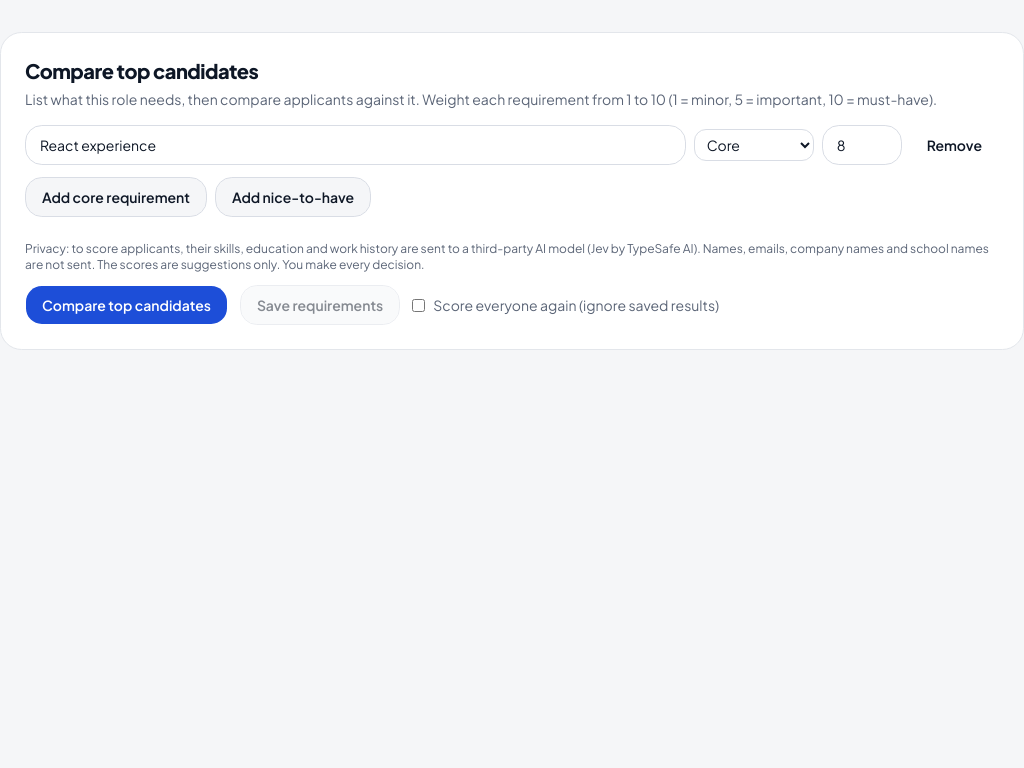
Scenario: CandidateComparison › saves unsaved changes before comparing
Step 1. Type "!" into the field named "Requirement 1" → (355, 145), box [25, 125, 686, 165]
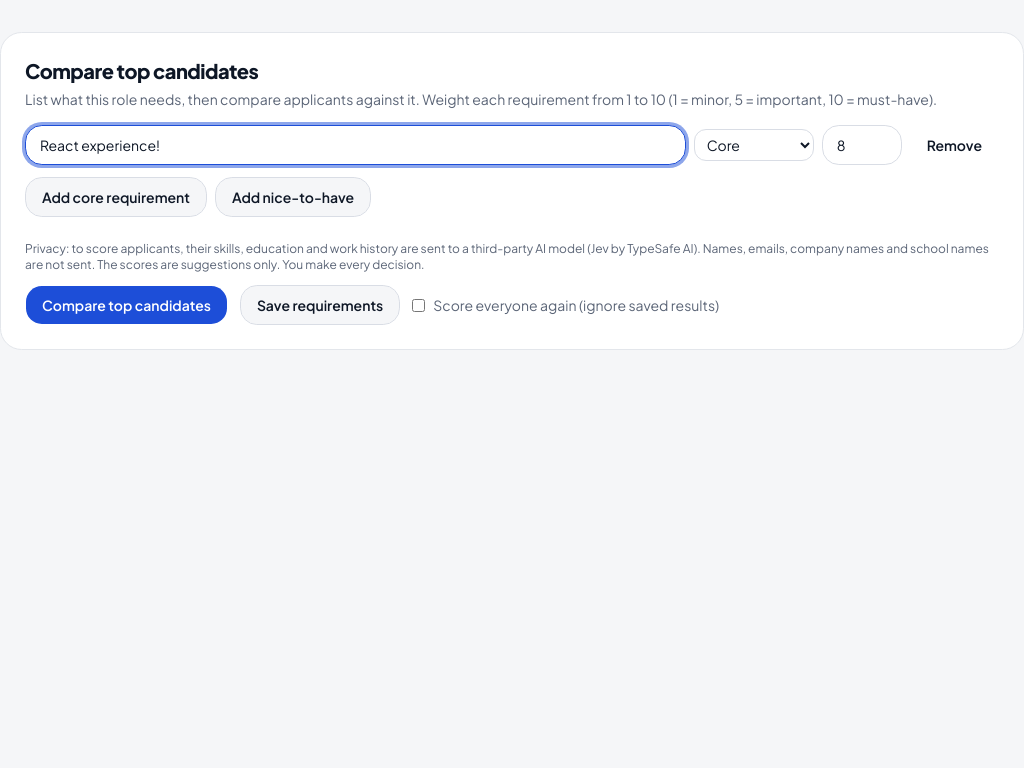
Step 2. Click the button "Compare top candidates" → (126, 305), box [25, 285, 228, 325]
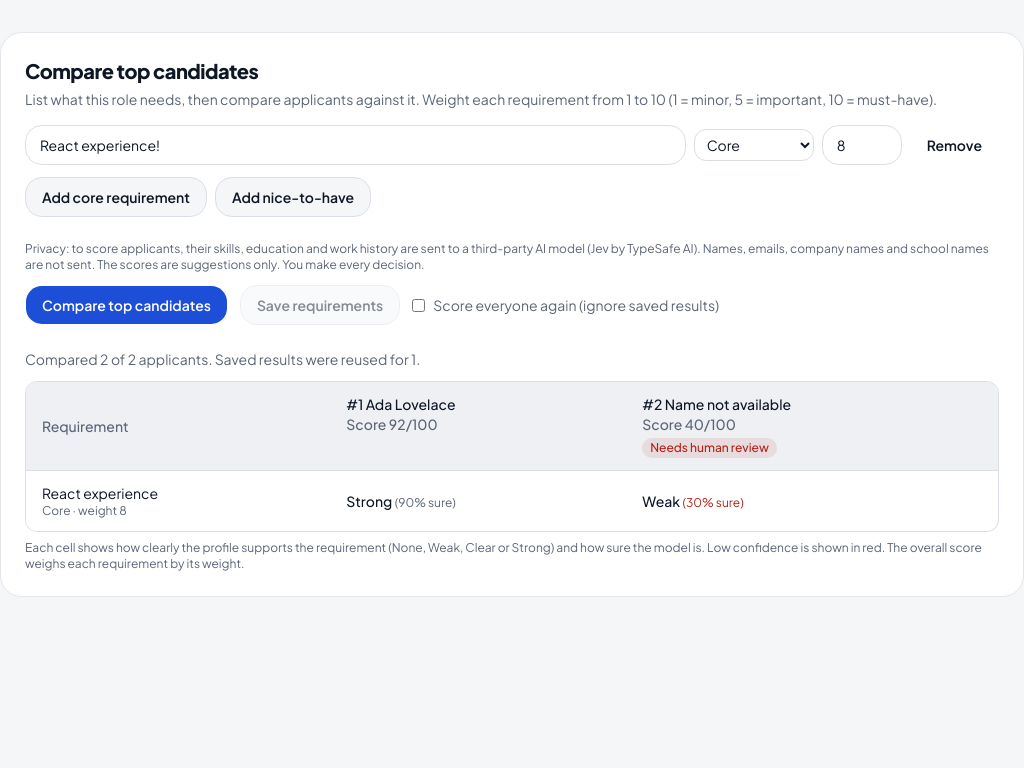
Result: the table is shown at [26, 382, 998, 531]
